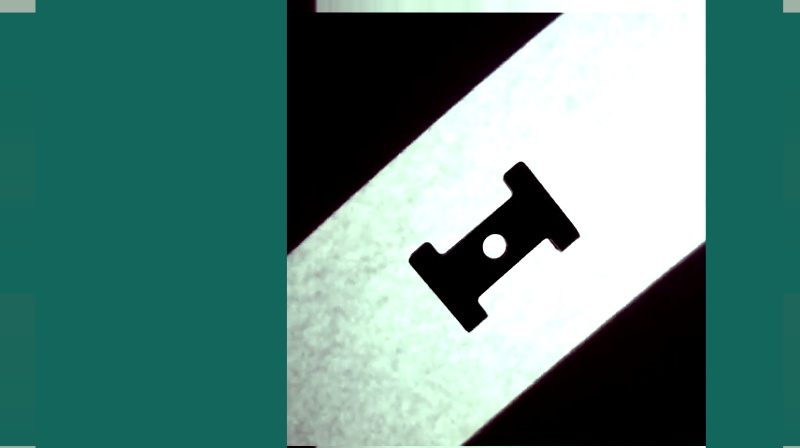O002: (404, 155, 582, 335)
